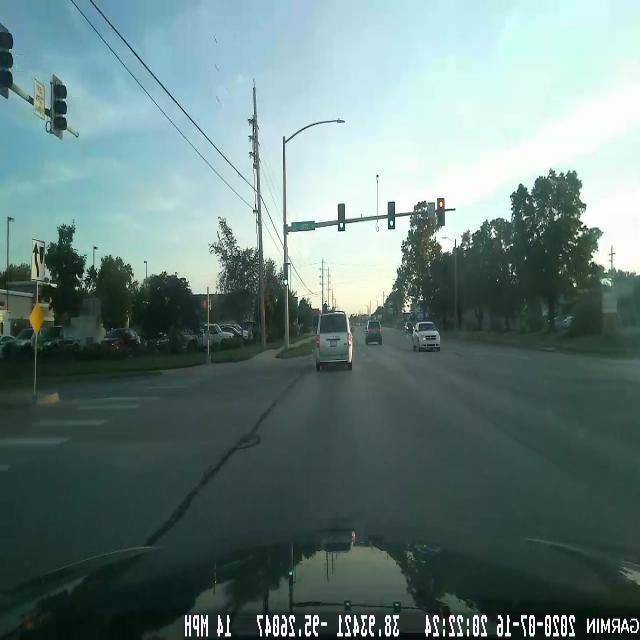pothole: (229, 422, 265, 458)
